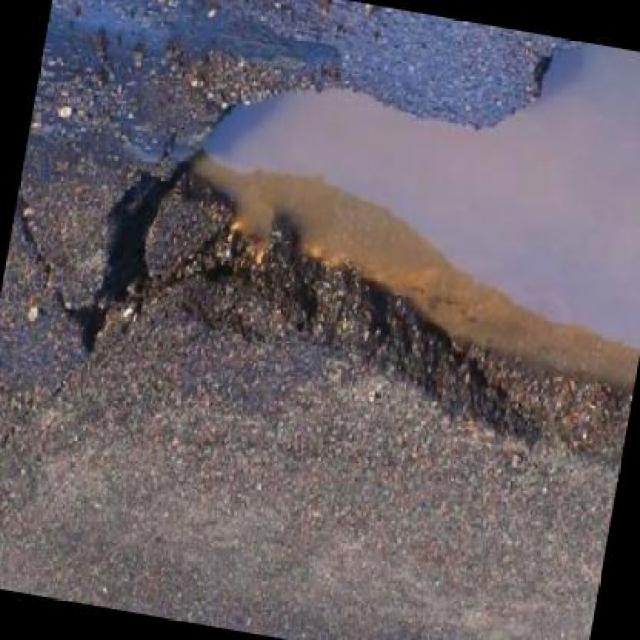pothole1: (63, 0, 639, 485)
